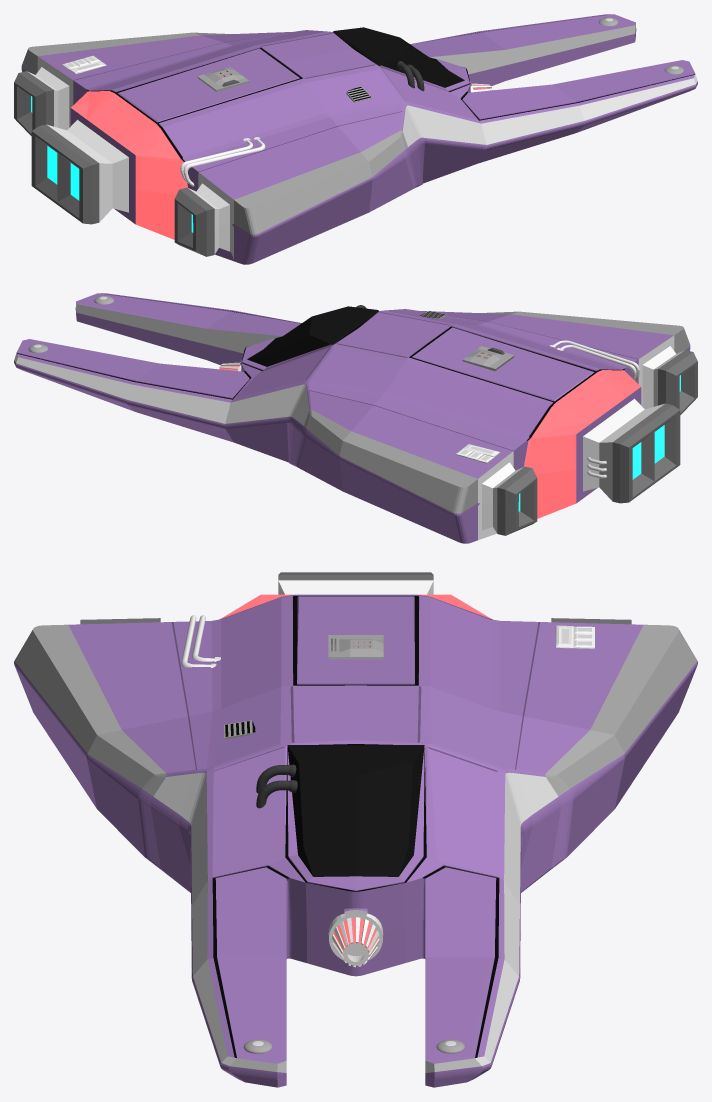
The model's file is FastShip2.fbx.
The picture shows the model from 3 angles, top to bottom: view 1: azimuth 30°, elevation 25°; view 2: azimuth 150°, elevation 25°; view 3: azimuth 270°, elevation 25°; orthographic projection. The views are drawn at different scales.
Parts seen in each view (by area): view 1: SpaceShip, SpaceShip.002, SpaceShip.003, Cube, Cylinder.002; view 2: SpaceShip, SpaceShip.002, SpaceShip.003, Cube; view 3: SpaceShip, SpaceShip.002, Cylinder, Cube, SpaceShip.003.
Part boxes in pixels (x1,y1,x2,y2): SpaceShip: [14, 14, 697, 264]; SpaceShip.002: [402, 23, 697, 146]; SpaceShip.003: [71, 91, 187, 239]; Cube: [197, 67, 249, 92]; Cylinder.002: [183, 137, 265, 186]; SpaceShip: [14, 293, 697, 543]; SpaceShip.002: [14, 302, 309, 425]; SpaceShip.003: [524, 370, 640, 518]; Cube: [462, 346, 514, 371]; SpaceShip: [14, 572, 697, 1087]; SpaceShip.002: [153, 772, 558, 1072]; Cylinder: [328, 908, 383, 967]; Cube: [328, 635, 383, 659]; SpaceShip.003: [221, 594, 490, 618].
Size of the model in its own units: 3697 by 653 by 2466.
